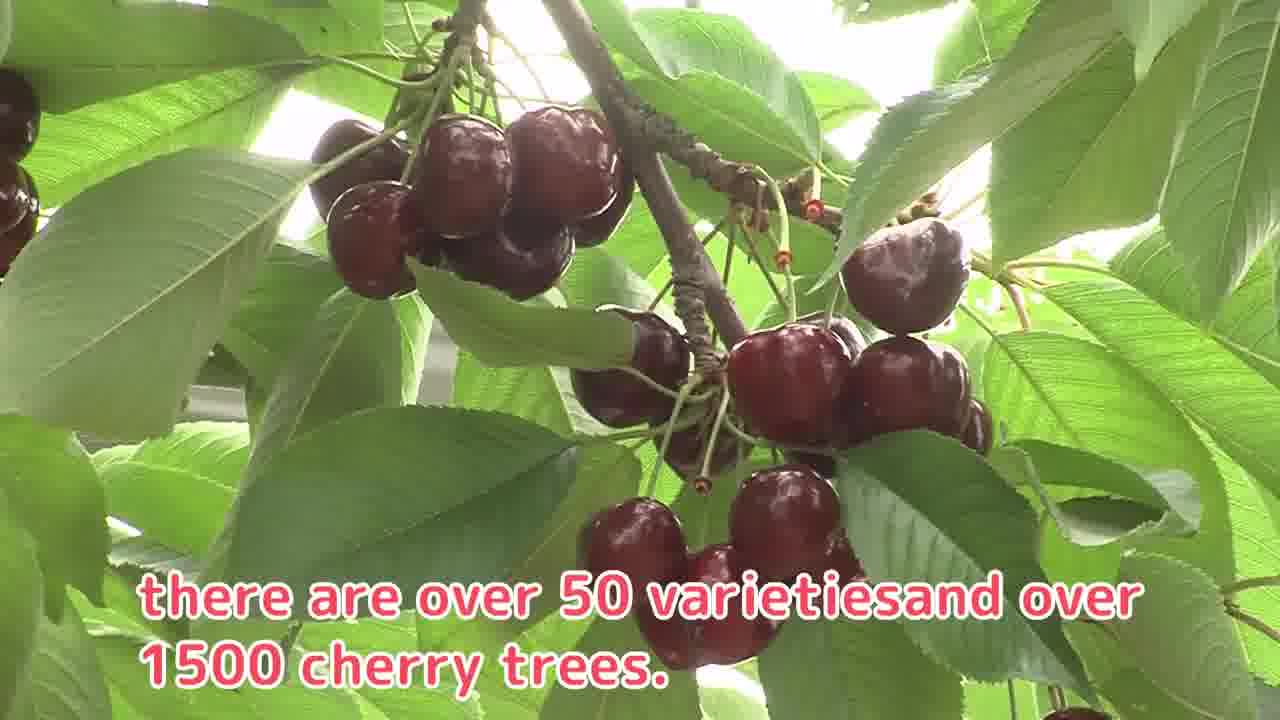Cherry: (597, 259, 1012, 549), (266, 75, 671, 291)
